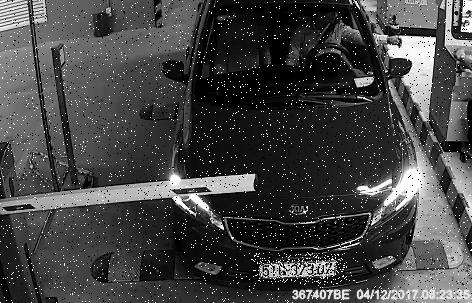License-plate: (255, 254, 349, 285)
